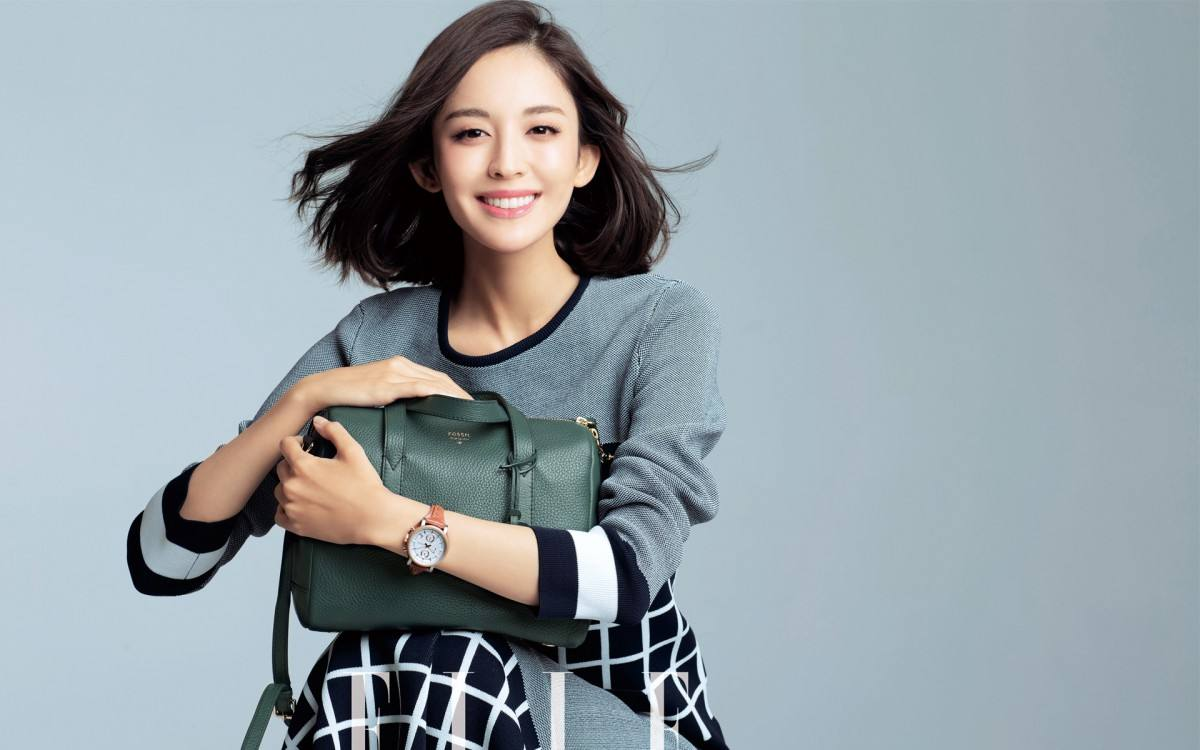person: (256, 22, 702, 687)
